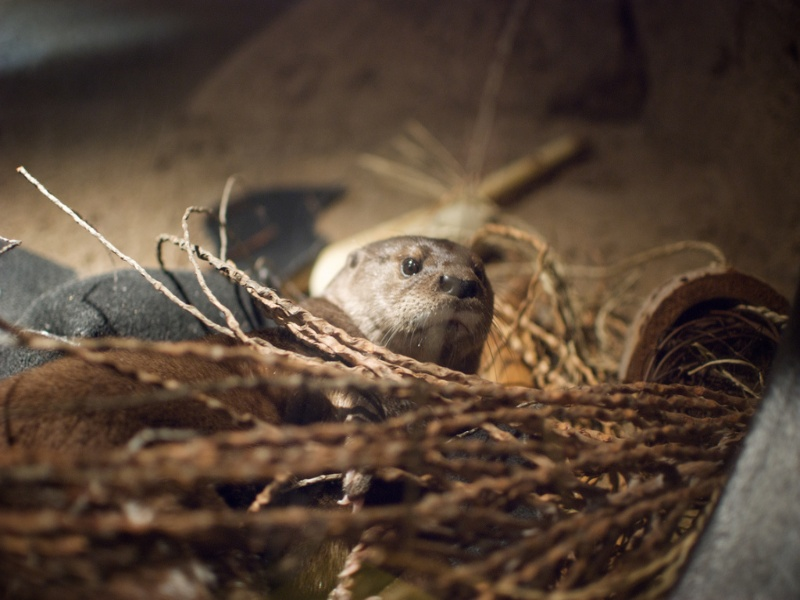minkish: (296, 230, 500, 376)
